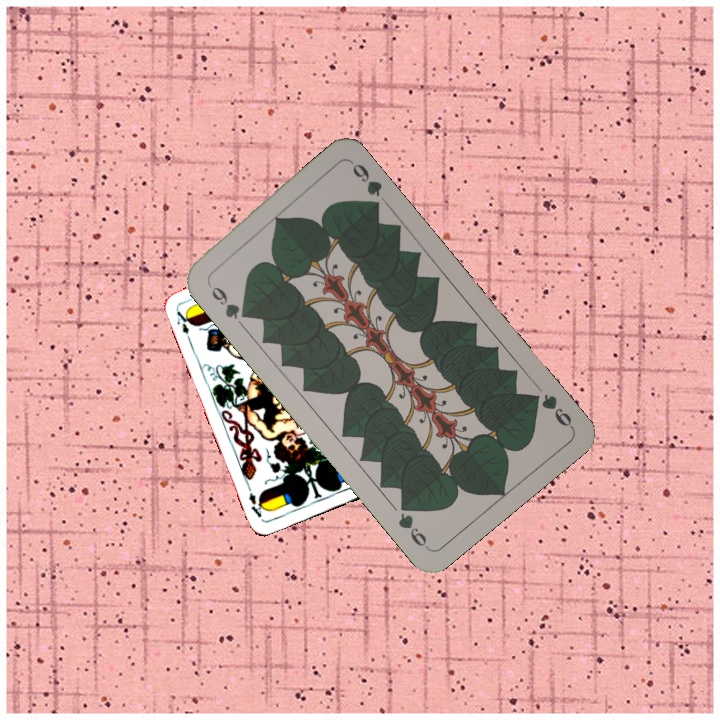EA: (173, 307, 194, 345)
G9: (203, 277, 252, 322), (524, 389, 575, 431)
